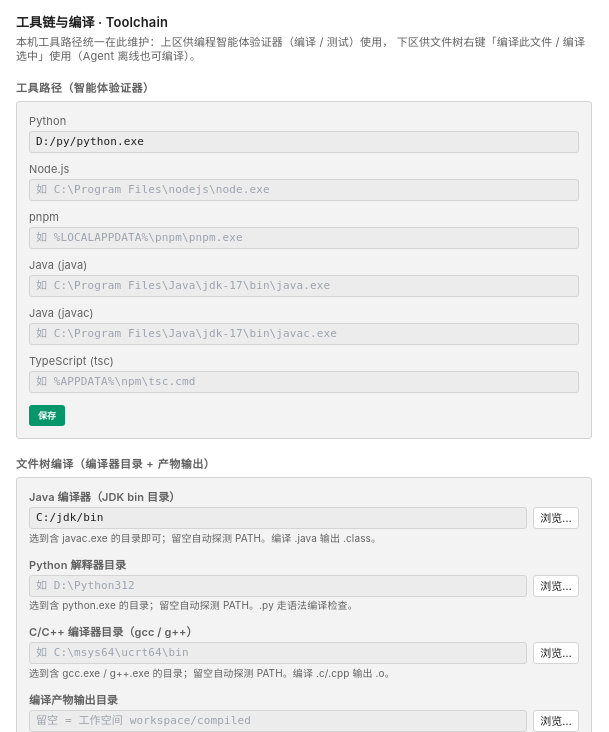
ToolchainSettingsPanel（工具链与编译，合并页签） › 区块一保存：saveToolchain 收到完整 paths
This screenshot has width=609, height=732.
Step 1. Replace the text in the field showing "D:/py/python.exe" with "D:/py312/python.exe" → (304,142), box x1=29 y1=131 x2=579 y2=153
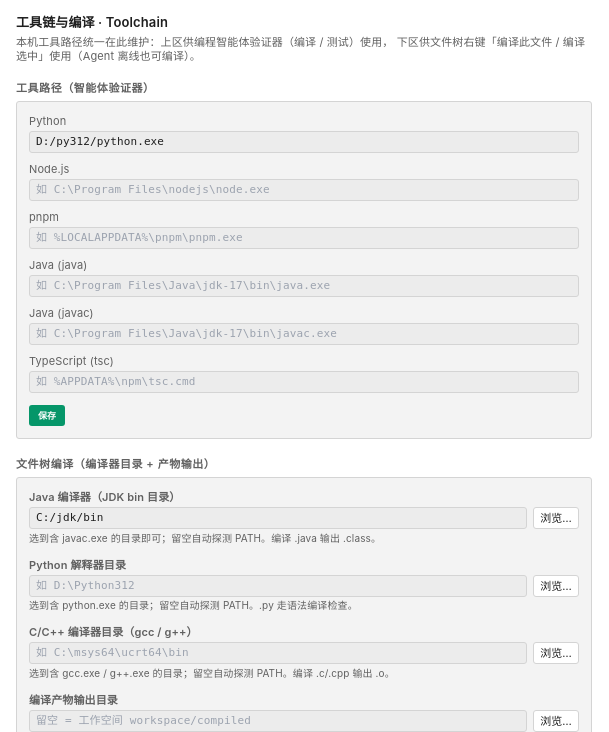
第一个「保存」按钮属于区块一（工具路径）
Step 2. Click the button "保存" → (47,416), box x1=29 y1=405 x2=65 y2=426
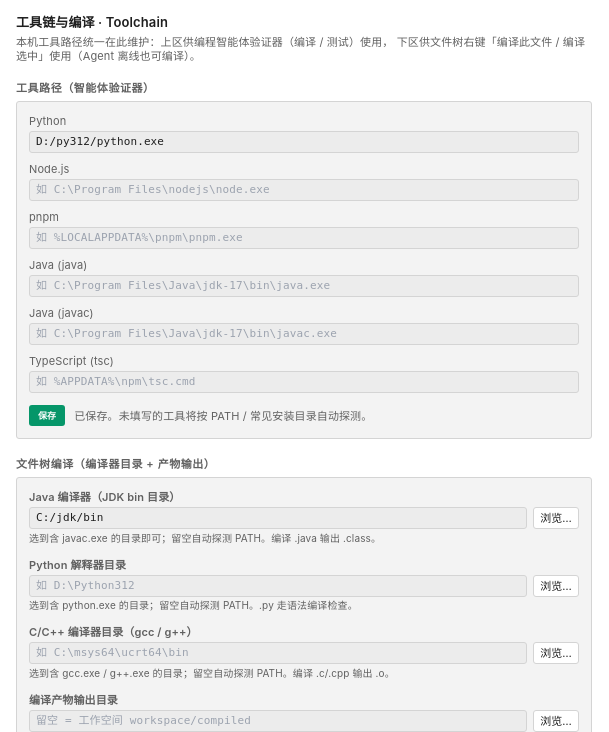
Expected: the text "已保存。未填写的工具将按 PATH / 常见安装目录自动探测。" is shown, x1=74 y1=408 x2=372 y2=422
